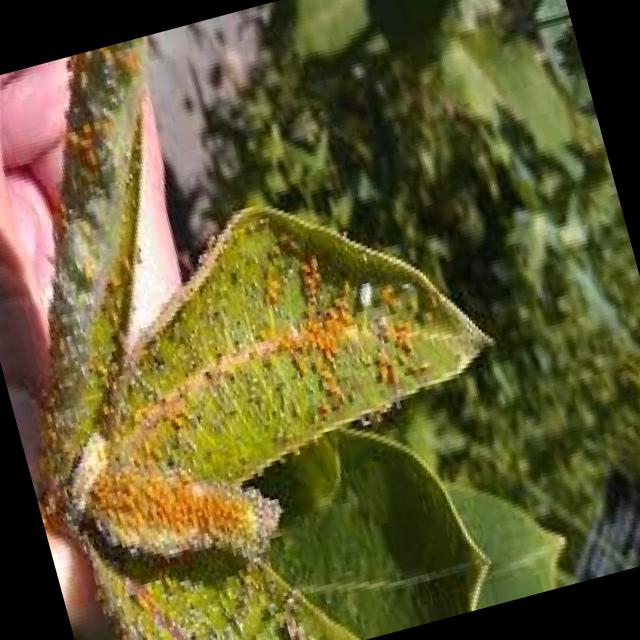aphid: (67, 242, 98, 284), (72, 134, 103, 175), (308, 388, 334, 422), (316, 295, 342, 329), (57, 119, 82, 153), (129, 583, 154, 617), (286, 345, 310, 379), (300, 239, 324, 272), (72, 108, 95, 142), (38, 416, 61, 449), (260, 265, 282, 298), (143, 434, 167, 464), (82, 477, 106, 507), (334, 269, 354, 301), (50, 188, 70, 220), (370, 358, 392, 387), (90, 353, 112, 382), (87, 438, 109, 467), (90, 391, 112, 420), (373, 280, 394, 310), (258, 278, 280, 306), (411, 351, 434, 376), (142, 480, 163, 506), (292, 250, 311, 278), (353, 240, 372, 268), (308, 326, 327, 354), (37, 402, 57, 427), (109, 622, 135, 640), (423, 287, 441, 312), (169, 512, 187, 537), (119, 488, 137, 512), (205, 484, 222, 508), (249, 522, 265, 546), (232, 520, 247, 540)
